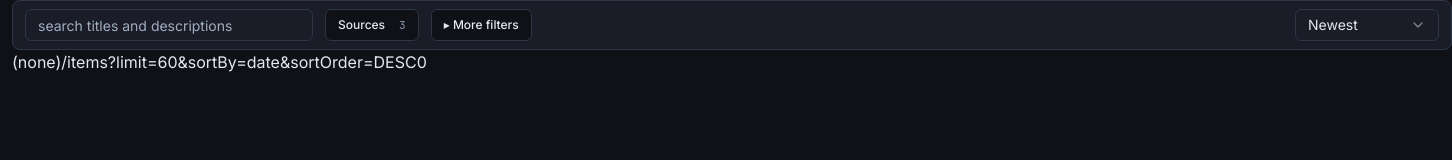
Test case: filter state lives in the URL › typing a search puts it in the URL and in the request
The width and height of the screenshot is (1452, 160).
Type "agent" into the field named "Search items" at (169, 25), box [25,9,313,41]
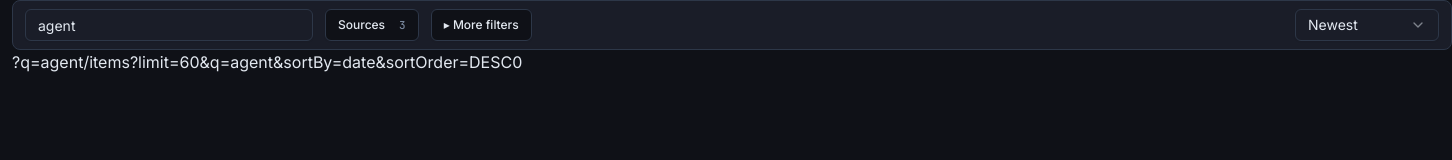
Result: the text with test id "url" shows "q=agent" at [12,52,83,72]
Result: the text with test id "api" shows "q=agent" at [83,52,512,72]
